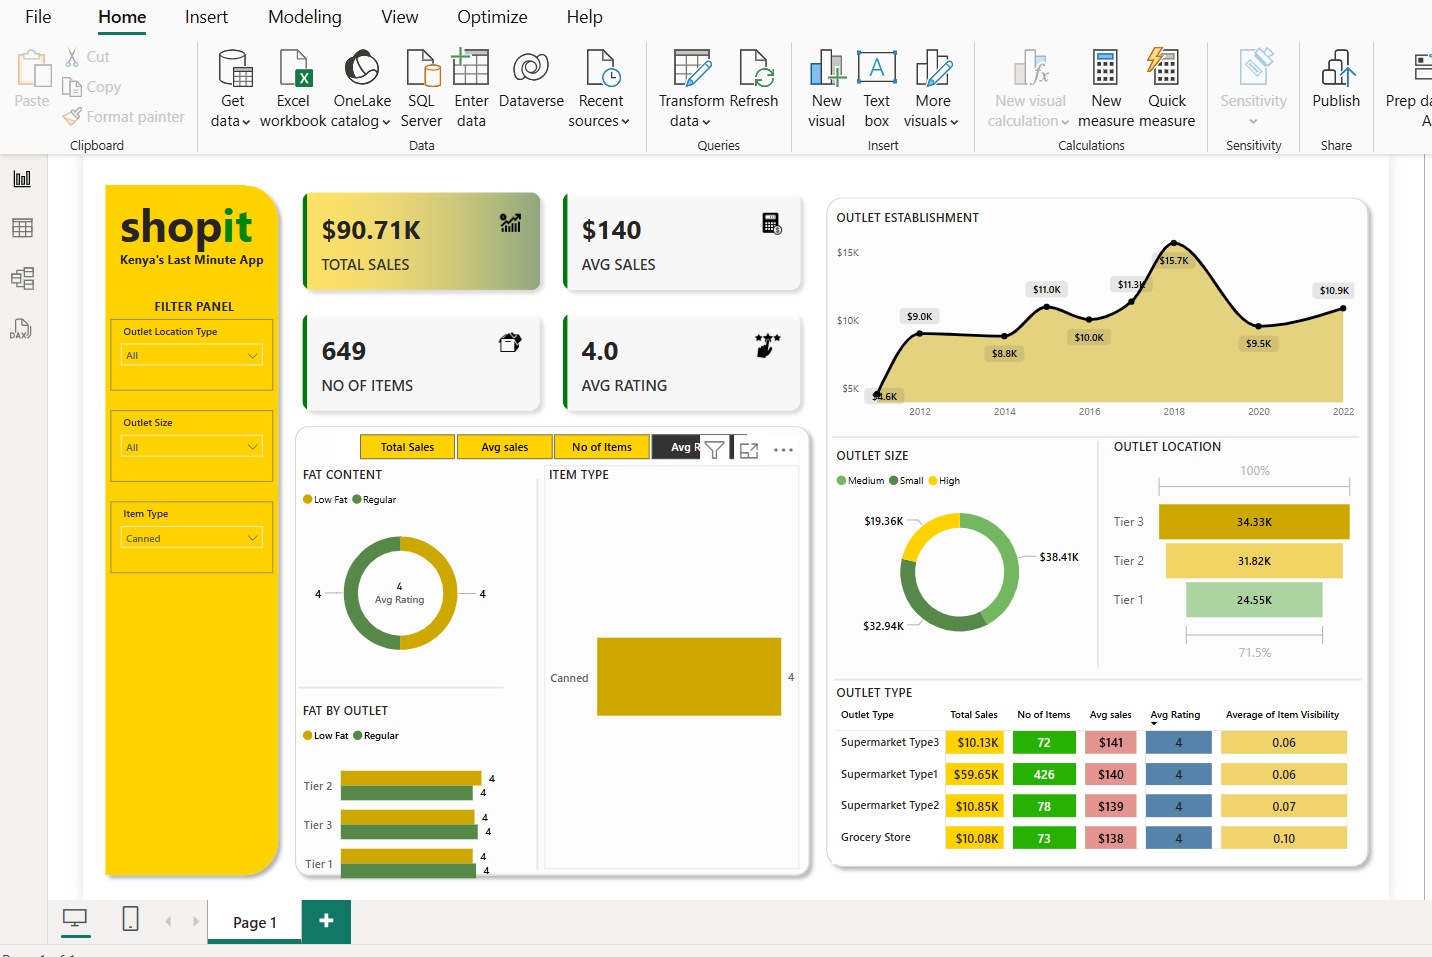

The dashboard page shown, as its layout file describes it:
{"tool":"powerbi","page":{"name":"Page 1","canvas":[1400,800],"ordinal":0},"visuals":[{"type":"shape","box":[14.7,24.1,203.8,758.7],"z":0},{"type":"textbox","box":[34.9,37.5,168.9,84.5],"z":1000},{"type":"textbox","box":[29.5,99.2,174.3,28.2],"z":2000},{"type":"cardVisual","fields":{"Data":["BlinkIT Grocery Data.Total Sales","BlinkIT Grocery Data.Avg sales","BlinkIT Grocery Data.No of Items","BlinkIT Grocery Data.Avg Rating"]},"box":[218.5,24.1,569.7,269.4],"z":3000},{"type":"shape","box":[218.5,282.8,569.7,500],"z":4000},{"type":"donutChart","title":"FAT CONTENT","fields":{"Y":["BlinkIT Grocery Data.Avg Rating"],"Category":["BlinkIT Grocery Data.Item Fat Content"]},"box":[230.6,333.8,220,230],"z":5000},{"type":"slicer","fields":{"Values":["Metrics.Metrics"]},"box":[270.8,293.6,465.1,40.2],"z":6000},{"type":"cardVisual","fields":{"Data":["BlinkIT Grocery Data.Avg Rating"]},"box":[294.9,439.7,89.8,56.3],"z":7000},{"type":"clusteredBarChart","title":"FAT BY OUTLET","fields":{"Y":["BlinkIT Grocery Data.Avg Rating"],"Category":["BlinkIT Grocery Data.Outlet Location Type"],"Series":["BlinkIT Grocery Data.Item Fat Content"]},"box":[230.6,587.1,219.8,213.1],"z":8000},{"type":"shape","box":[230.6,564.3,219.8,16.1],"z":9000},{"type":"shape","box":[470.5,348.5,33.5,418.2],"z":10000},{"type":"barChart","title":"ITEM TYPE","fields":{"Y":["BlinkIT Grocery Data.Avg Rating"],"Category":["BlinkIT Grocery Data.Item Type"]},"box":[494.6,333.8,273.5,433],"z":11000},{"type":"shape","box":[788.2,37.5,599.2,735.9],"z":12000},{"type":"lineChart","title":"OUTLET ESTABLISHMENT","fields":{"Y":["BlinkIT Grocery Data.Total Sales"],"Category":["BlinkIT Grocery Data.Outlet Establishment Year"]},"box":[803,59,565.7,234.6],"z":13000},{"type":"shape","box":[803,293.6,565.7,20.1],"z":14000},{"type":"donutChart","title":"OUTLET SIZE","fields":{"Y":["BlinkIT Grocery Data.Total Sales"],"Category":["BlinkIT Grocery Data.Outlet Size"]},"box":[803,313.7,274.8,225.2],"z":15000},{"type":"shape","box":[1083.1,308.3,10.7,242.6],"z":16000},{"type":"funnel","title":"OUTLET LOCATION","fields":{"Y":["Sum(BlinkIT Grocery Data.Sales)"],"Category":["BlinkIT Grocery Data.Outlet Location Type"]},"box":[1100.5,304.3,268.1,246.7],"z":17000},{"type":"shape","box":[805.6,553.6,565.7,20.1],"z":18000},{"type":"pivotTable","title":"OUTLET TYPE","fields":{"Rows":["BlinkIT Grocery Data.Outlet Type"],"Values":["BlinkIT Grocery Data.Total Sales","BlinkIT Grocery Data.No of Items","BlinkIT Grocery Data.Avg sales","BlinkIT Grocery Data.Avg Rating","Avg(BlinkIT Grocery Data.Item Visibility)"]},"box":[803,568.4,567,193],"z":19000},{"type":"slicer","fields":{"Values":["BlinkIT Grocery Data.Outlet Location Type"]},"box":[29.5,176.9,174.3,76.4],"z":19001},{"type":"slicer","fields":{"Values":["BlinkIT Grocery Data.Outlet Size"]},"box":[29.5,274.8,174.3,76.4],"z":19002},{"type":"slicer","fields":{"Values":["BlinkIT Grocery Data.Item Type"]},"box":[29.5,372.7,174.3,76.4],"z":19003},{"type":"textbox","box":[60.3,148.8,118,28.2],"z":19004}]}

Visuals, with their boxes on the page's 1400x800 design canvas (x1, y1, x2, y2). These are canvas units, not pixel positions in the 1432x957 screenshot, which may show the page scaled, cropped or inside an application window:
shape: [15, 24, 218, 783]
textbox: [35, 38, 204, 122]
textbox: [30, 99, 204, 127]
cardVisual - BlinkIT Grocery Data.Total Sales x BlinkIT Grocery Data.Avg sales: [218, 24, 788, 294]
shape: [218, 283, 788, 783]
"FAT CONTENT" donutChart: [231, 334, 451, 564]
slicer - Metrics.Metrics: [271, 294, 736, 334]
cardVisual - BlinkIT Grocery Data.Avg Rating: [295, 440, 385, 496]
"FAT BY OUTLET" clusteredBarChart: [231, 587, 450, 800]
shape: [231, 564, 450, 580]
shape: [470, 348, 504, 767]
"ITEM TYPE" barChart: [495, 334, 768, 767]
shape: [788, 38, 1387, 773]
"OUTLET ESTABLISHMENT" lineChart: [803, 59, 1369, 294]
shape: [803, 294, 1369, 314]
"OUTLET SIZE" donutChart: [803, 314, 1078, 539]
shape: [1083, 308, 1094, 551]
"OUTLET LOCATION" funnel: [1100, 304, 1369, 551]
shape: [806, 554, 1371, 574]
"OUTLET TYPE" pivotTable: [803, 568, 1370, 761]
slicer - BlinkIT Grocery Data.Outlet Location Type: [30, 177, 204, 253]
slicer - BlinkIT Grocery Data.Outlet Size: [30, 275, 204, 351]
slicer - BlinkIT Grocery Data.Item Type: [30, 373, 204, 449]
textbox: [60, 149, 178, 177]
